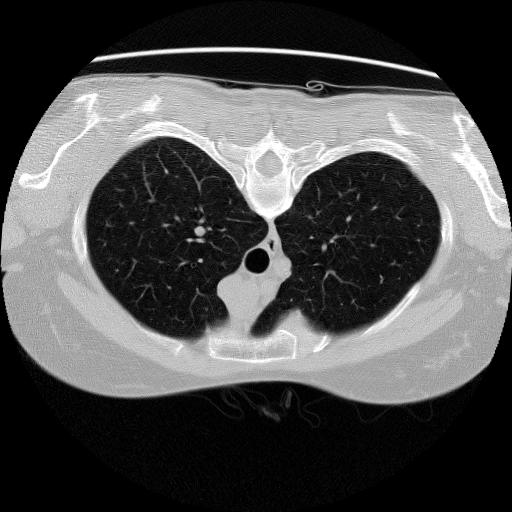nodule: (189, 223, 208, 242)
